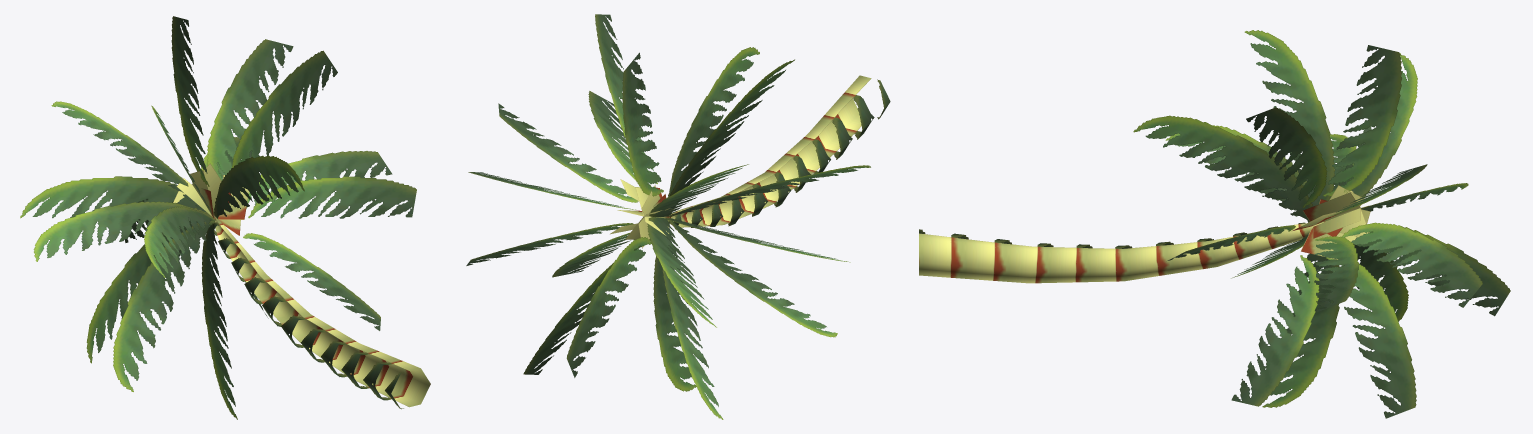
Rendered from polygon0.489.obj.
3 views of the same model, side by side, from view 1: azimuth 30°, elevation 25°; view 2: azimuth 150°, elevation 25°; view 3: azimuth 270°, elevation 25° (orthographic). The views are drawn at different scales.
Parts seen in each view (by area): view 1: TreeC.115; view 2: TreeC.115; view 3: TreeC.115.
Boxes of the visible parts, left/top/right/bottom form: TreeC.115: left=20, top=16, right=430, bottom=419; TreeC.115: left=466, top=14, right=890, bottom=419; TreeC.115: left=919, top=30, right=1510, bottom=418.
Size of the model in its own units: 40 by 39.97 by 57.82.
Materials: 1 (1 with a texture image).
